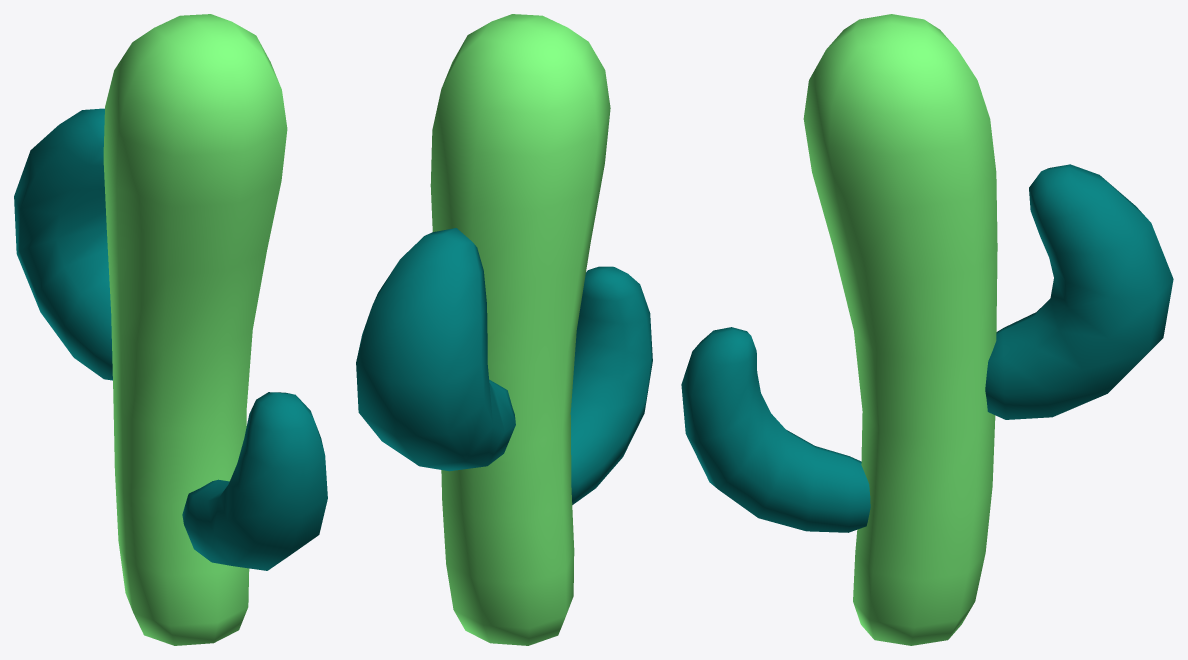
File: Cactus04.fbx
3 views of the same model, side by side, from view 1: azimuth 30°, elevation 25°; view 2: azimuth 150°, elevation 25°; view 3: azimuth 270°, elevation 25° (orthographic). The views are drawn at different scales.
Parts seen in each view (by area): view 1: Low_Cactus04; view 2: Low_Cactus04; view 3: Low_Cactus04.
Boxes of the visible parts, <box> form: Low_Cactus04: <box>14,14,327,645</box>; Low_Cactus04: <box>356,14,652,645</box>; Low_Cactus04: <box>681,14,1173,645</box>.
Bounding box in the file's own units: 201 × 756 × 553.
